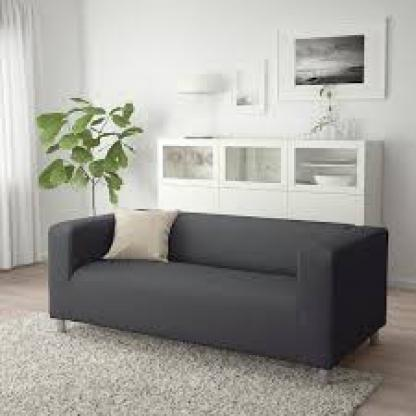sofa: (39, 209, 386, 366)
